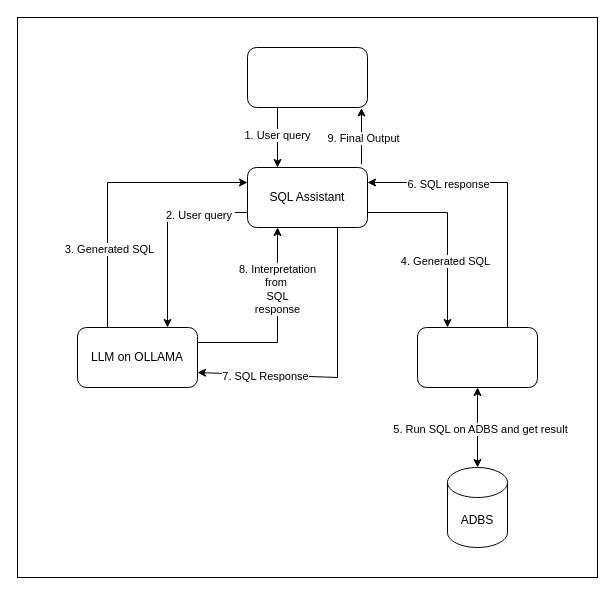
Some shapes in this 615 by 595 pixel diagram are drawn without their labels. The box of each missing label's shape, as (x1, y1, x2, y2) in pixels:
MCP server: (416, 326, 538, 388)
User: (246, 46, 368, 108)
